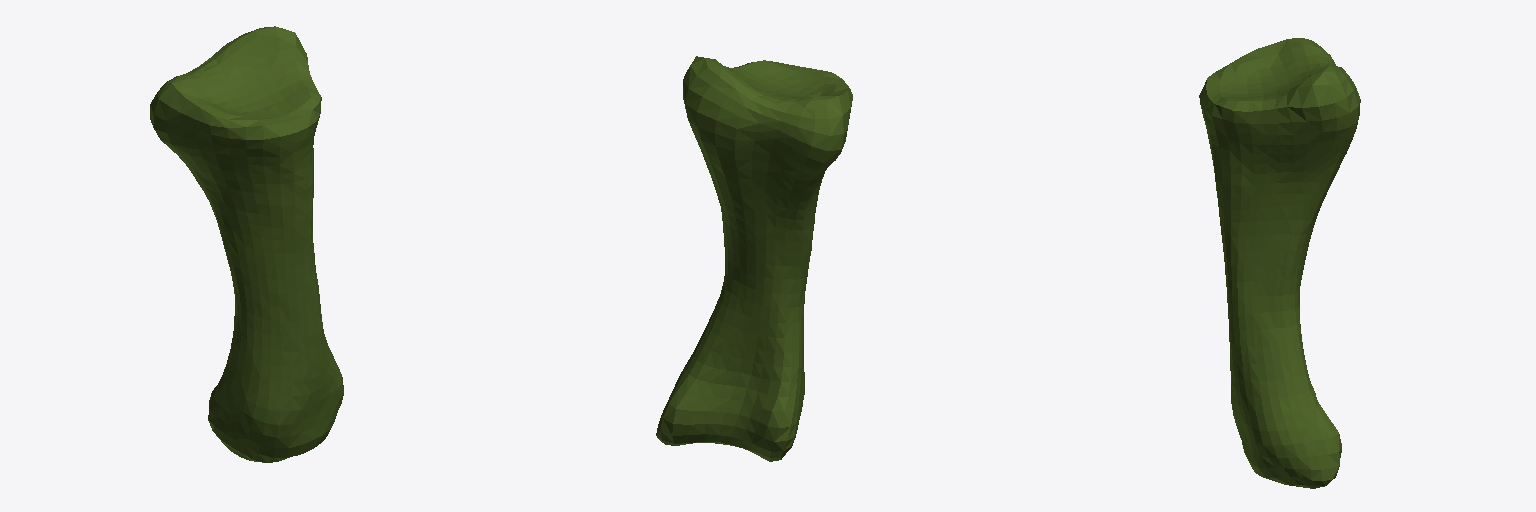
Rendered from ProximalPhalanx_2.obj.
3 renders of one model, left to right at view 1: azimuth 30°, elevation 25°; view 2: azimuth 150°, elevation 25°; view 3: azimuth 270°, elevation 25°, orthographic.
Parts seen in each view (by area): view 1: Object_0ProximalPhalanx_2; view 2: Object_0ProximalPhalanx_2; view 3: Object_0ProximalPhalanx_2.
Boxes of the visible parts, box(x1,y1,x2,y2) form: Object_0ProximalPhalanx_2: box(150, 26, 343, 462); Object_0ProximalPhalanx_2: box(656, 56, 852, 461); Object_0ProximalPhalanx_2: box(1199, 38, 1360, 488).
Bounding box in the file's own units: 16.28 × 35.53 × 12.76.